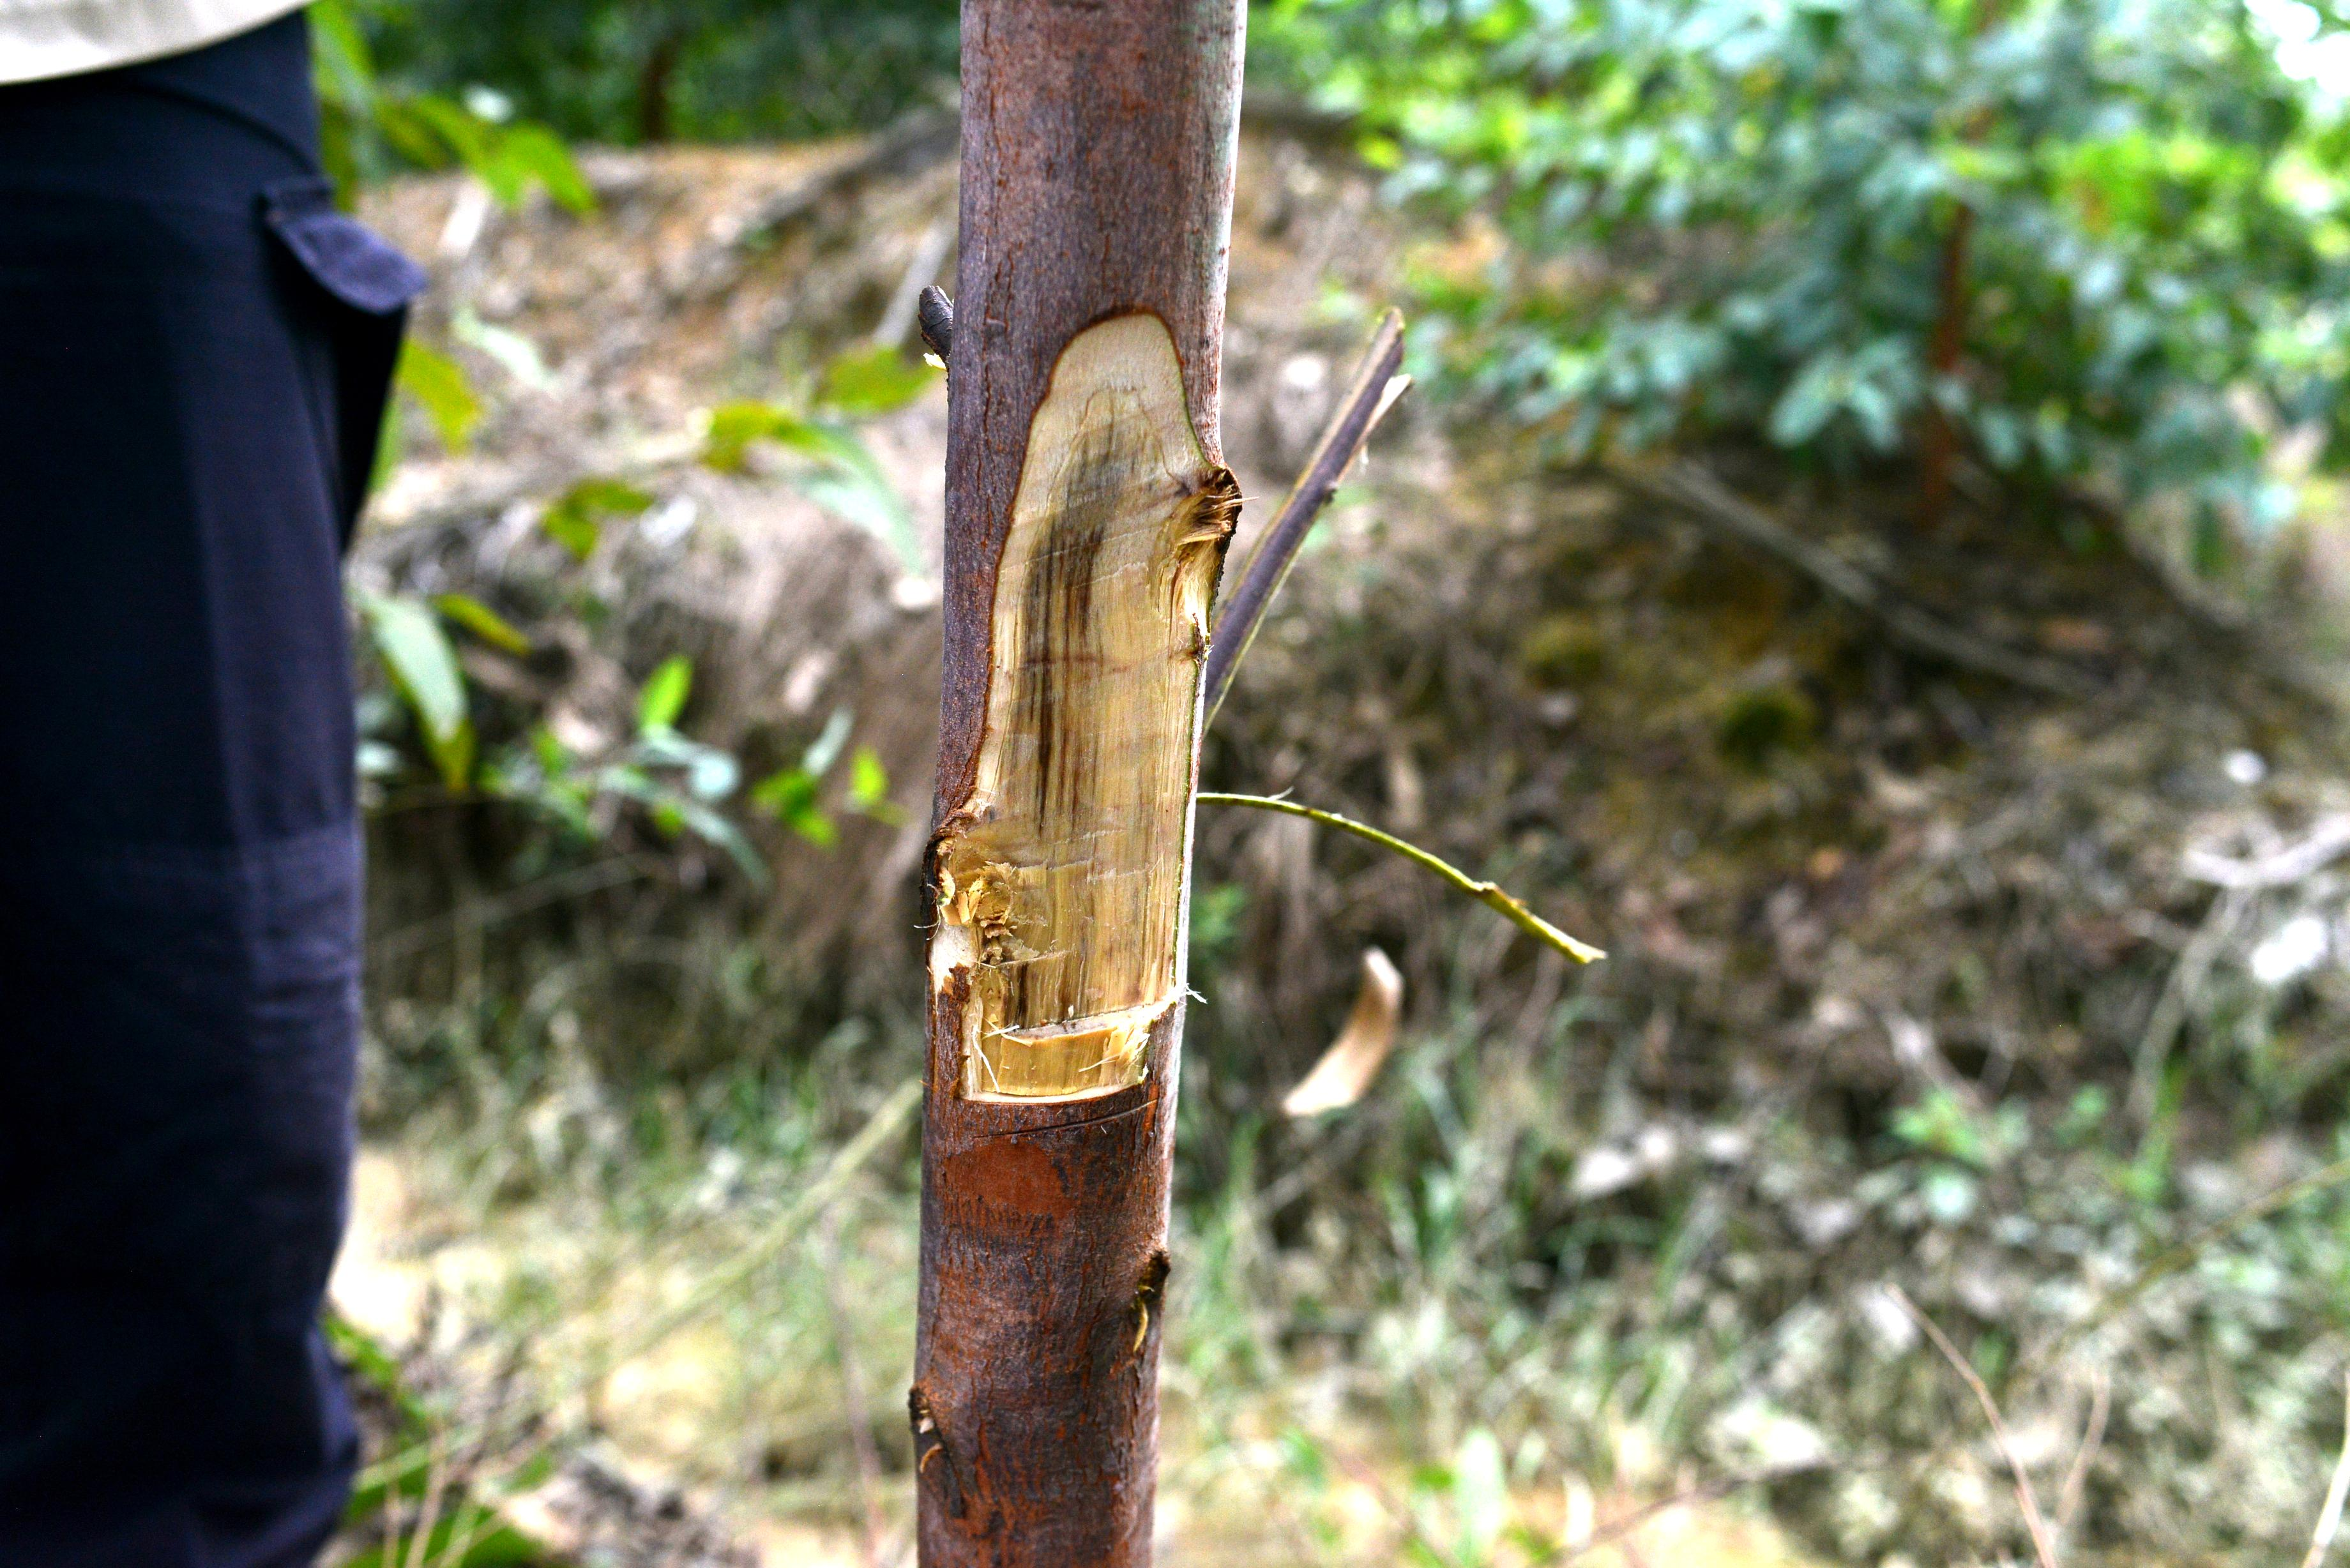Ralstonia: (945, 336, 1223, 1087)
